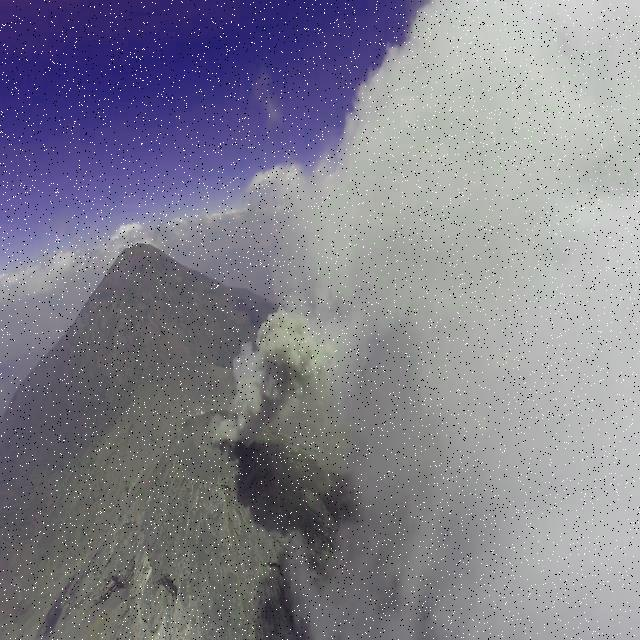Plume: (220, 284, 336, 460)
Summit: (76, 394, 366, 640)
